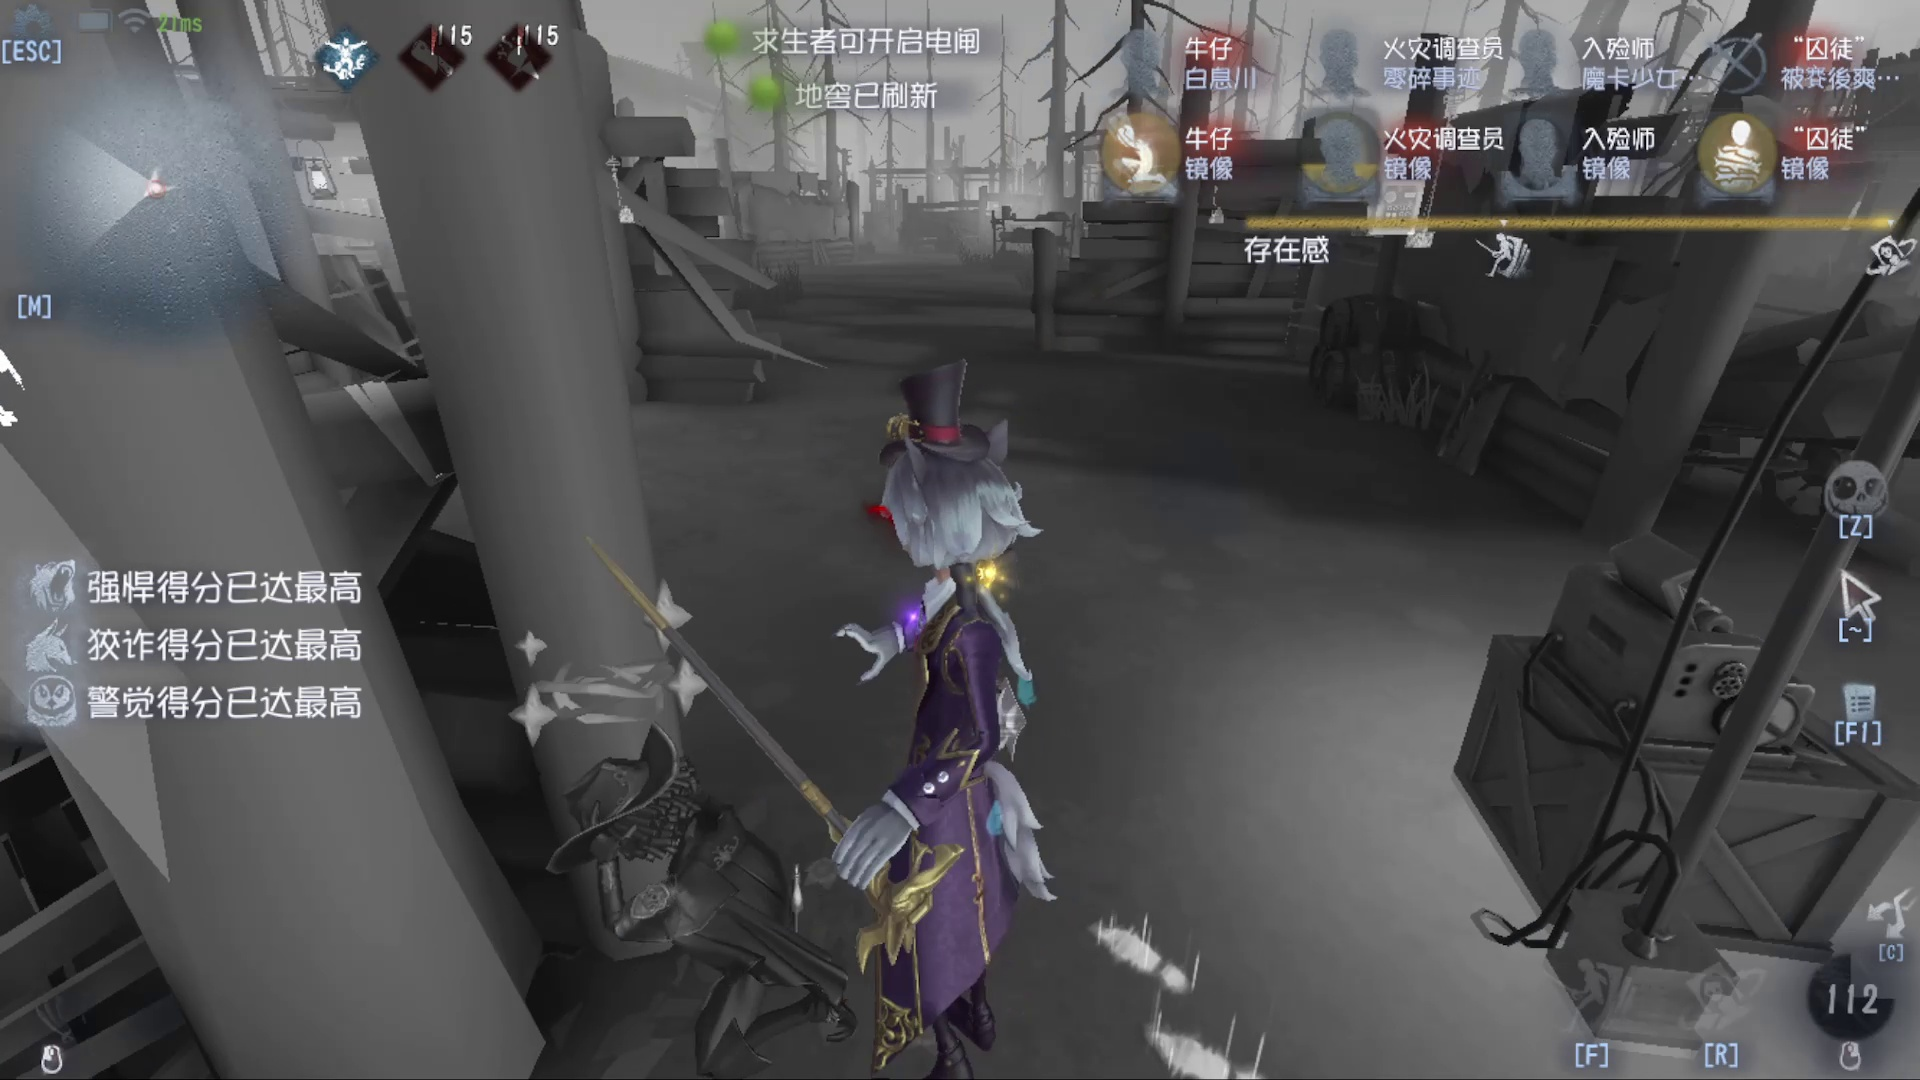求生者: (534, 738, 847, 1071)
狂欢之椅: (1418, 415, 1871, 948)
